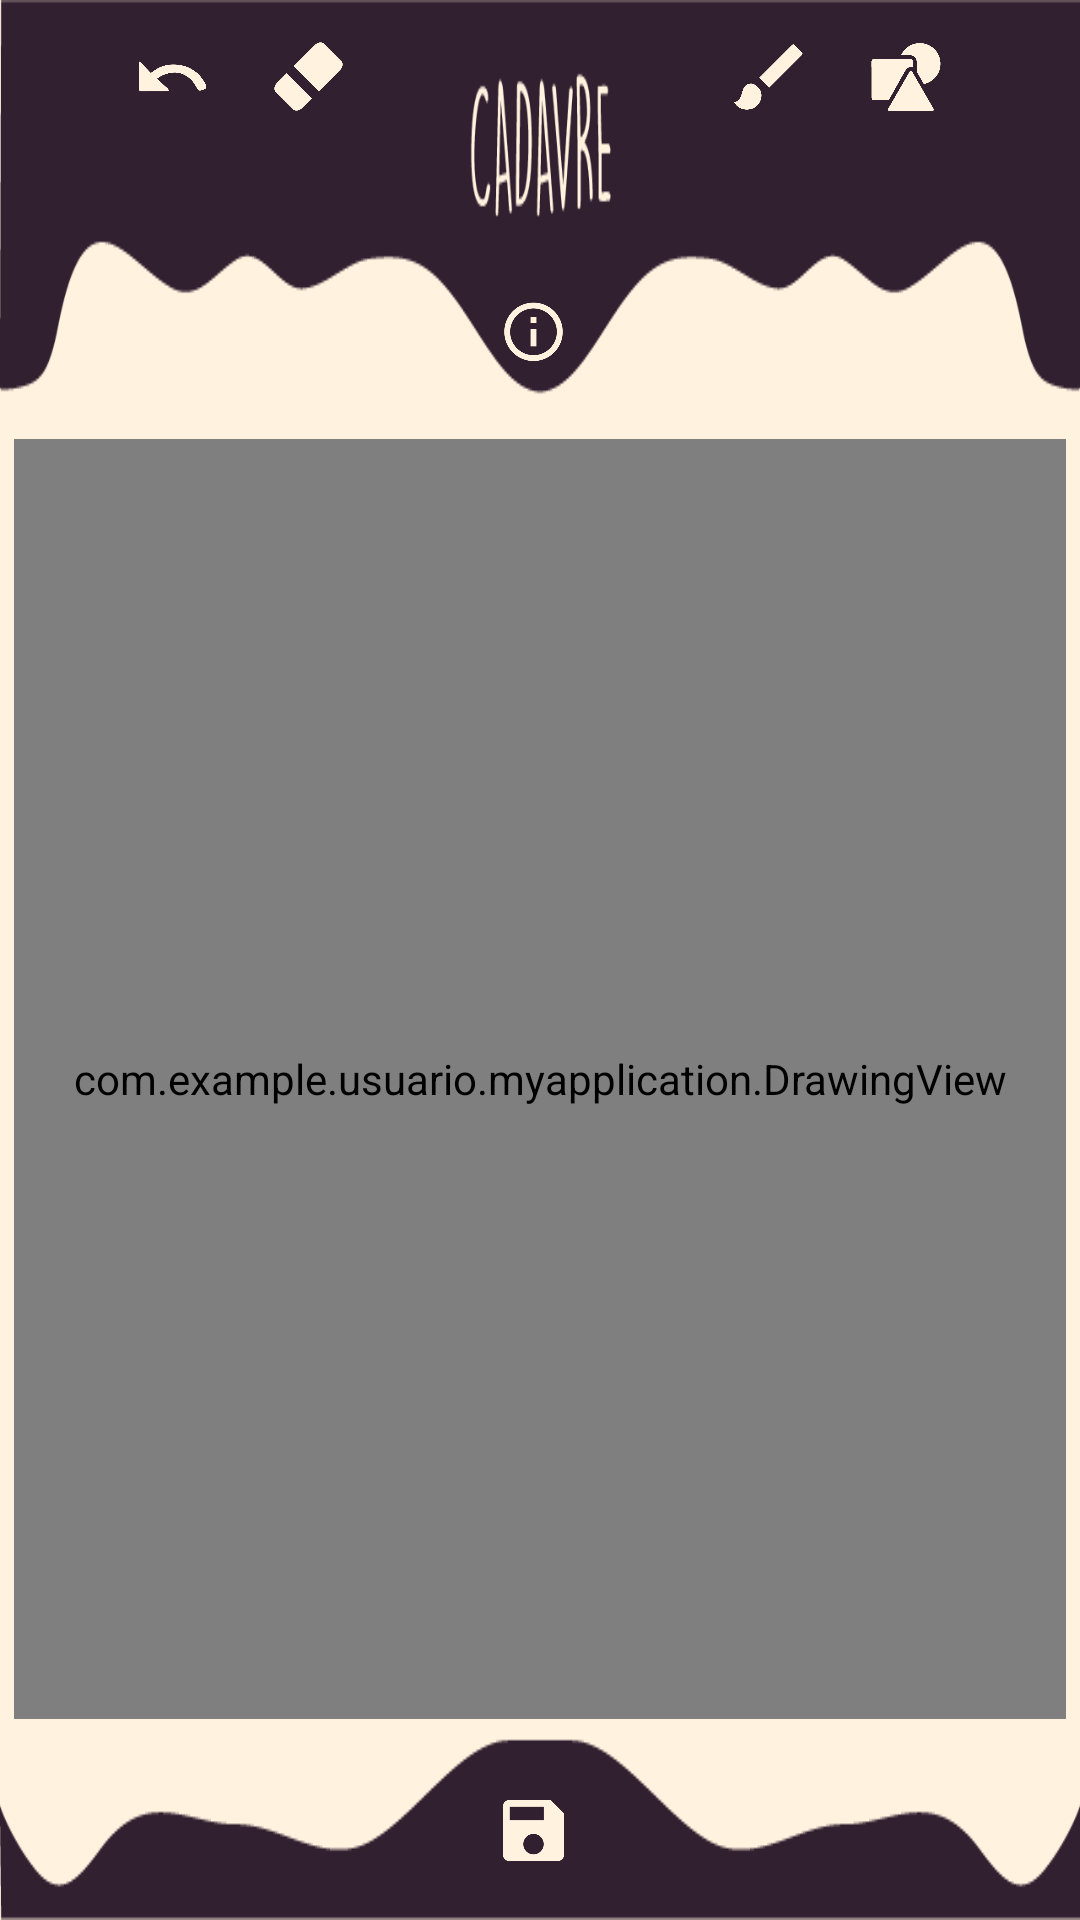

Icon click points for this 1080*1920 phone screenshot, format [x,y]:
Brush: [768,77]
canvas figuras: [906,77]
canvas info: [533,341]
Erase: [308,76]
save: [533,1830]
